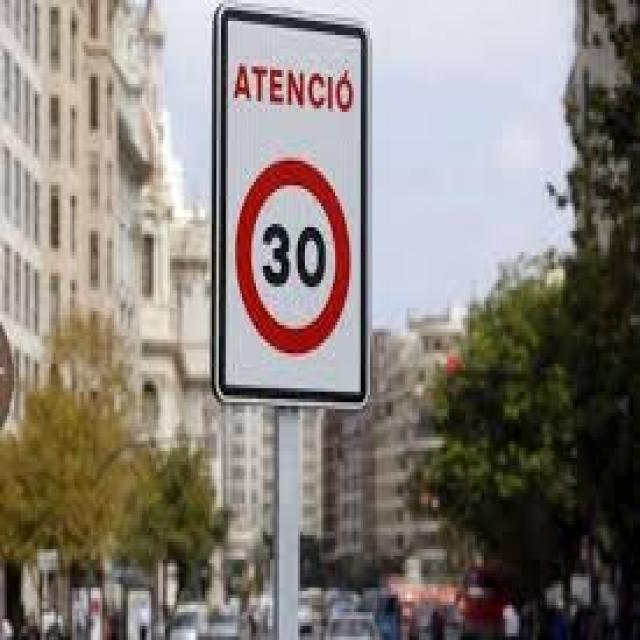speed_limit_30: (232, 152, 358, 364)
